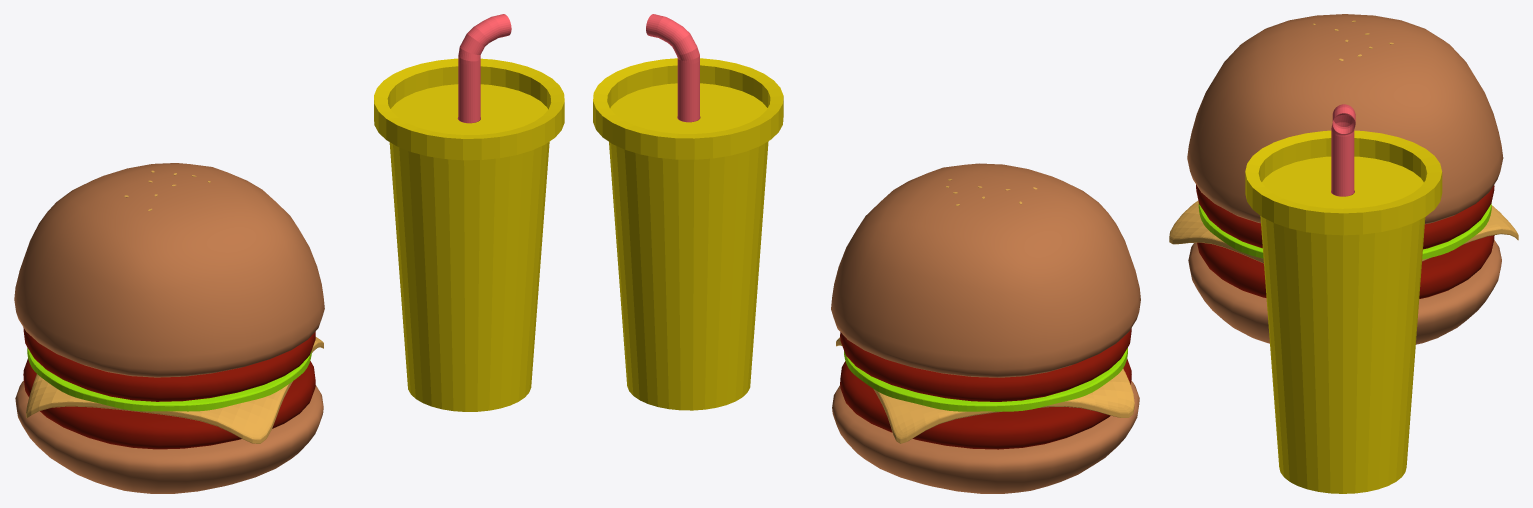
Rendered from hambuger2.fbx.
3 views of the same model, side by side, from view 1: azimuth 30°, elevation 25°; view 2: azimuth 150°, elevation 25°; view 3: azimuth 270°, elevation 25° (orthographic). The views are drawn at different scales.
Visible parts, largest first — view 1: Cube.003, Cylinder.001; view 2: Cube.003, Cylinder.001; view 3: Cube.003, Cylinder.001.
Part boxes in pixels (x1,y1,x2,y2): Cube.003: [14, 163, 324, 493]; Cylinder.001: [374, 14, 564, 411]; Cube.003: [831, 163, 1140, 493]; Cylinder.001: [593, 14, 783, 410]; Cube.003: [1169, 14, 1518, 344]; Cylinder.001: [1245, 104, 1442, 493].
Size of the model in its own units: 289 by 191 by 161.
